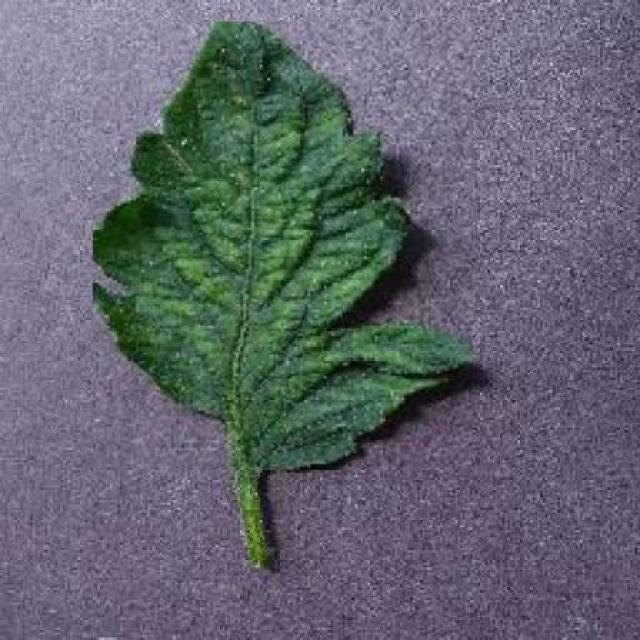Mosaic Virus: (93, 22, 473, 471)
